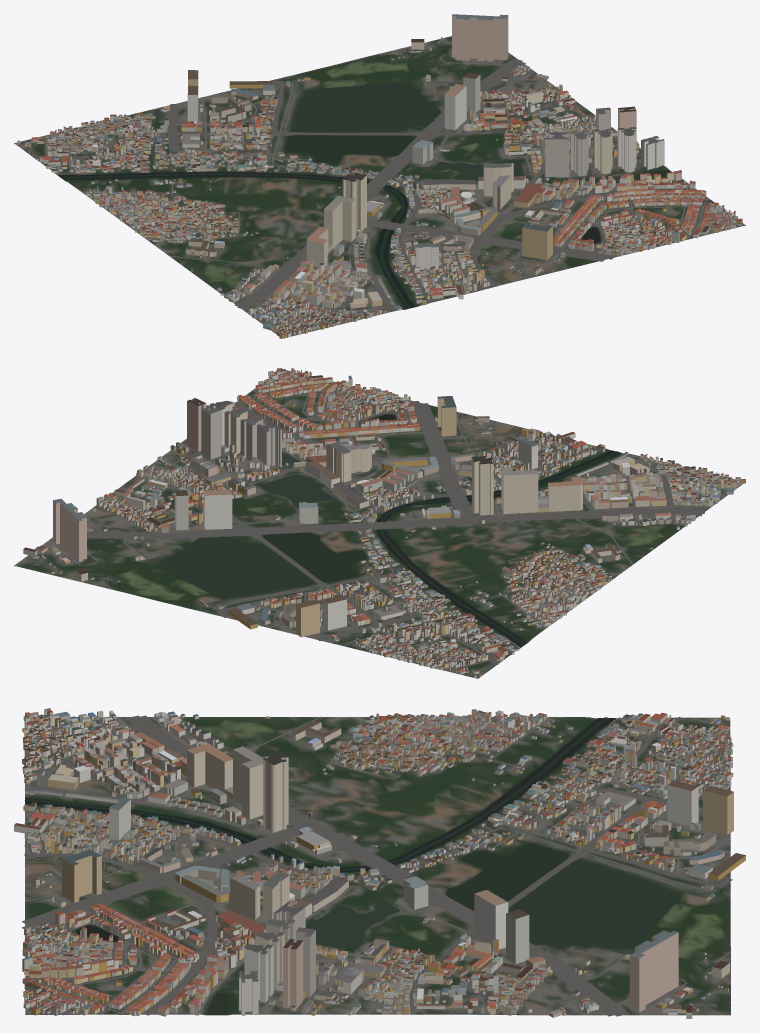
3 renders of one model, top to bottom at view 1: azimuth 30°, elevation 25°; view 2: azimuth 150°, elevation 25°; view 3: azimuth 270°, elevation 25°, orthographic. The views are drawn at different scales.
Parts seen in each view (by area): view 1: buildings, ground, water, roads; view 2: buildings, ground, roads, water; view 3: buildings, ground, water, roads.
Part boxes in pixels (x1=…): buildings: x1=16, y1=14, x2=742, y2=338; ground: x1=14, y1=36, x2=745, y2=338; water: x1=58, y1=83, x2=671, y2=308; roads: x1=29, y1=47, x2=743, y2=333; buildings: x1=23, y1=368, x2=745, y2=677; ground: x1=14, y1=370, x2=743, y2=678; roads: x1=48, y1=371, x2=735, y2=671; water: x1=157, y1=414, x2=620, y2=646; buildings: x1=14, y1=708, x2=745, y2=1018; ground: x1=24, y1=717, x2=730, y2=1015; water: x1=24, y1=717, x2=680, y2=1014; roads: x1=21, y1=715, x2=732, y2=1016.
Size of the model in its own units: 1426 by 153 by 1454.
